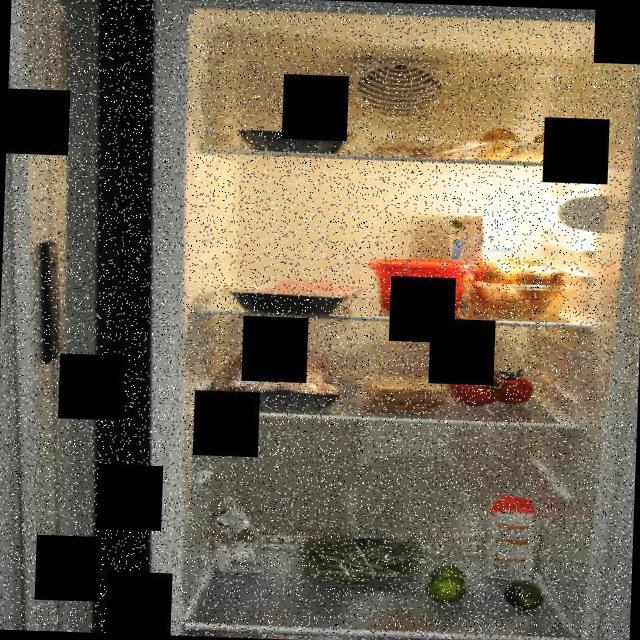Carne pollo: (215, 349, 339, 404)
Cebolla: (468, 255, 568, 318)
Gambas/Langostinos: (384, 136, 481, 162)
Leche: (443, 210, 512, 308)
Mantequilla: (368, 254, 472, 314)
Patata: (464, 126, 564, 166)
Tomate: (446, 365, 536, 408)
